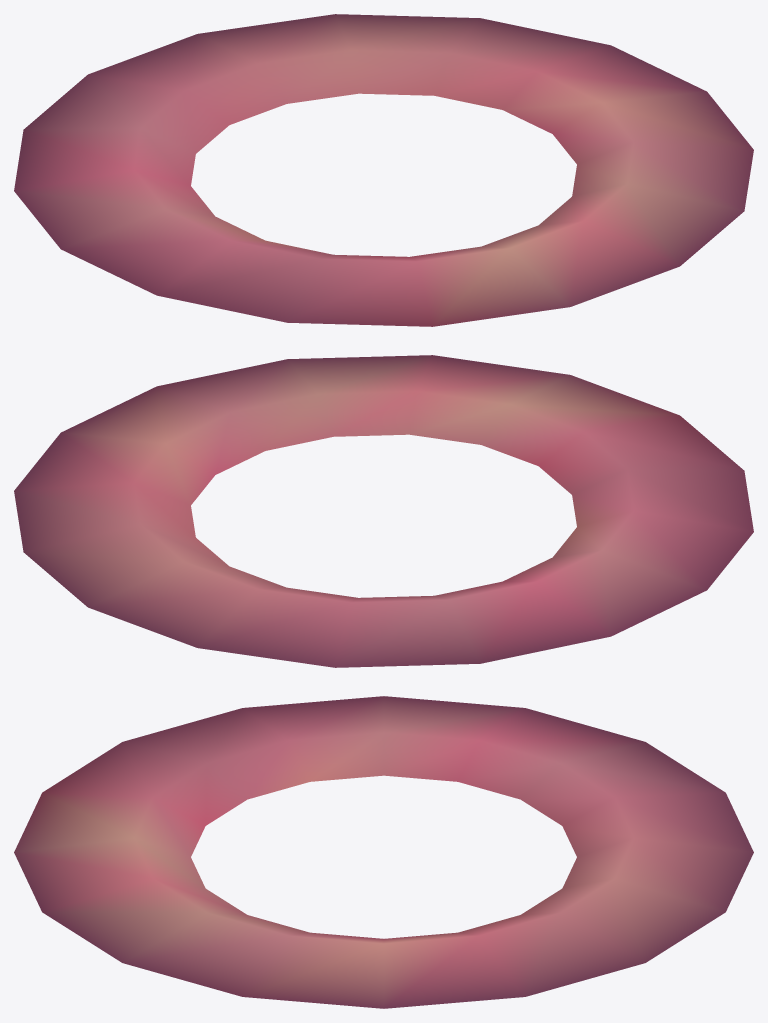
The model's file is space-galaxies-ring-galaxy_v9.glb.
The picture shows the model from 3 angles, top to bottom: view 1: azimuth 30°, elevation 25°; view 2: azimuth 150°, elevation 25°; view 3: azimuth 270°, elevation 25°; orthographic projection.
Parts seen in each view (by area): view 1: Ring Galaxy_v9; view 2: Ring Galaxy_v9; view 3: Ring Galaxy_v9.
Boxes of the visible parts, x1=… form: Ring Galaxy_v9: x1=14, y1=14, x2=753, y2=326; Ring Galaxy_v9: x1=14, y1=355, x2=753, y2=667; Ring Galaxy_v9: x1=14, y1=696, x2=753, y2=1008.
Bounding box in the file's own units: 0.5 × 0.0238 × 0.5.
